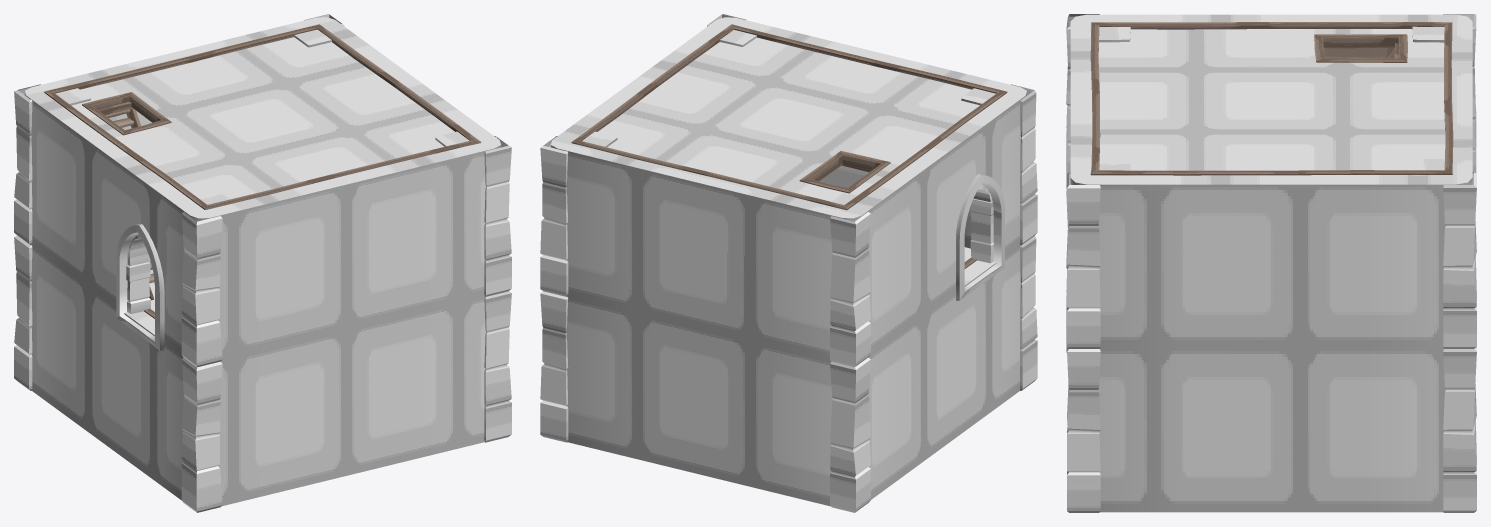
The model's file is SM_TowerE_Mid_02.fbx.
3 views of the same model, side by side, from view 1: azimuth 30°, elevation 25°; view 2: azimuth 150°, elevation 25°; view 3: azimuth 270°, elevation 25° (orthographic). The views are drawn at different scales.
Parts seen in each view (by area): view 1: SM_TowerE_Mid_02_LOD0; view 2: SM_TowerE_Mid_02_LOD0; view 3: SM_TowerE_Mid_02_LOD0.
Boxes of the visible parts, x1,y1,x2,y2 form: SM_TowerE_Mid_02_LOD0: [14, 14, 511, 512]; SM_TowerE_Mid_02_LOD0: [540, 14, 1037, 512]; SM_TowerE_Mid_02_LOD0: [1066, 14, 1476, 512].
Bounding box in the file's own units: 1029 × 1022 × 915.
